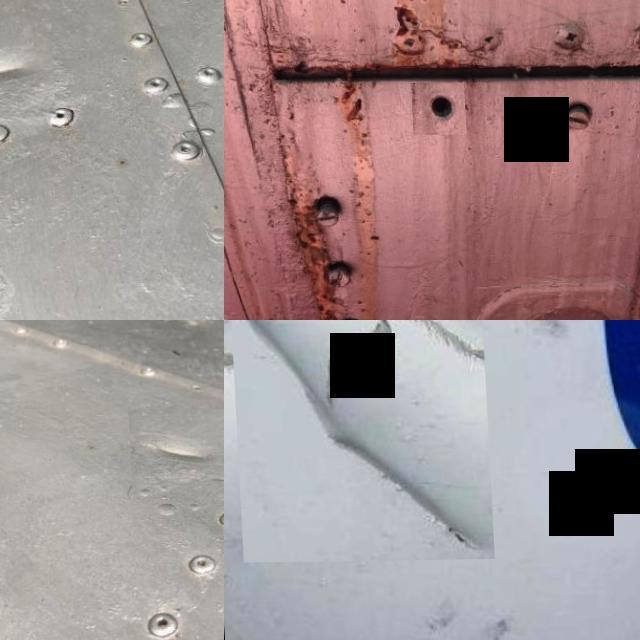Dent: (239, 320, 491, 560), (125, 410, 224, 500), (0, 22, 52, 118)
Missing_Fastener: (408, 84, 463, 136)
